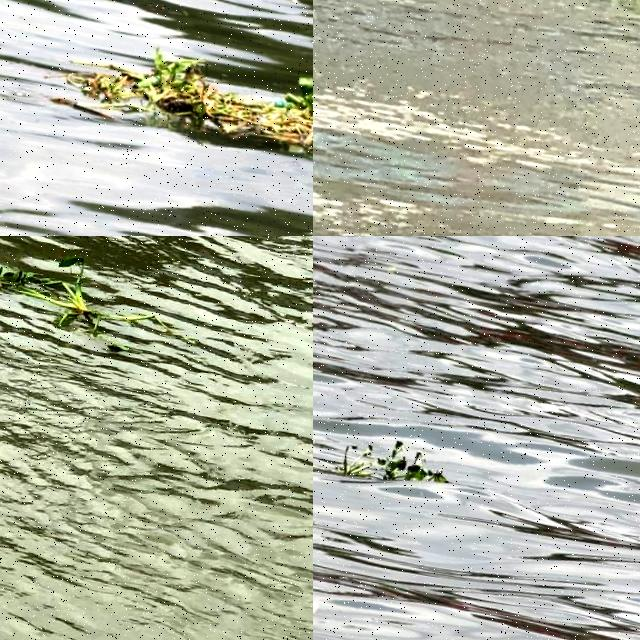water-hyacinth: (44, 52, 314, 154), (1, 242, 176, 345), (337, 433, 459, 494)
